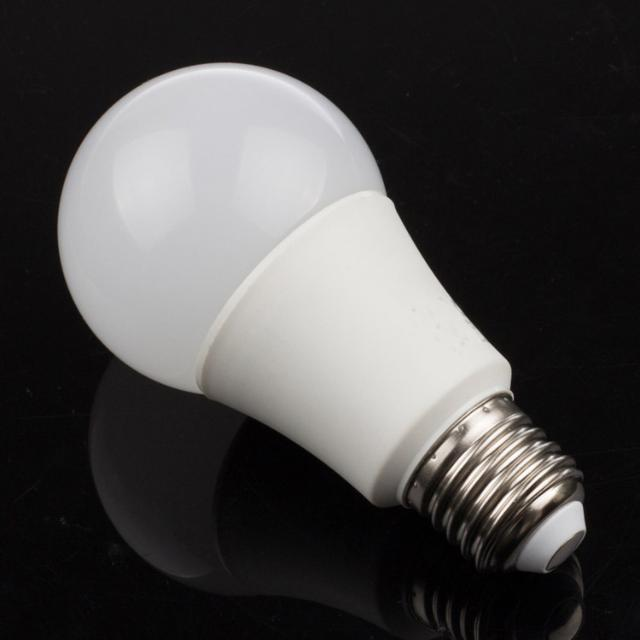light_bulb: (53, 62, 605, 620)
